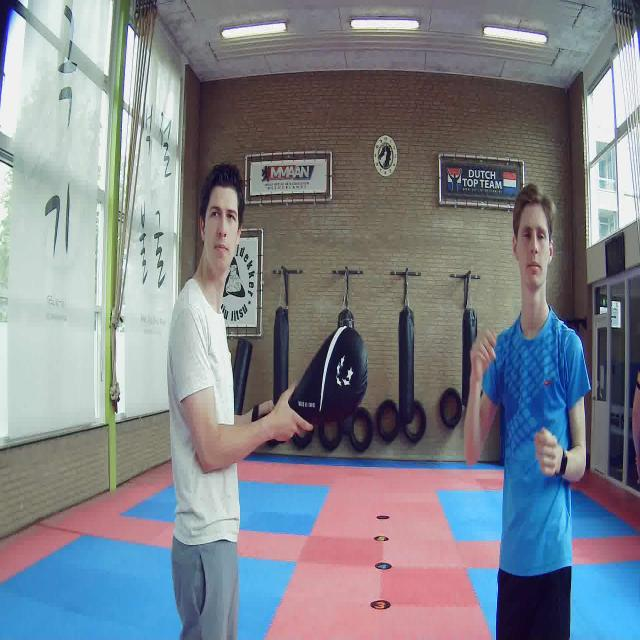paddle: (286, 326, 368, 424)
